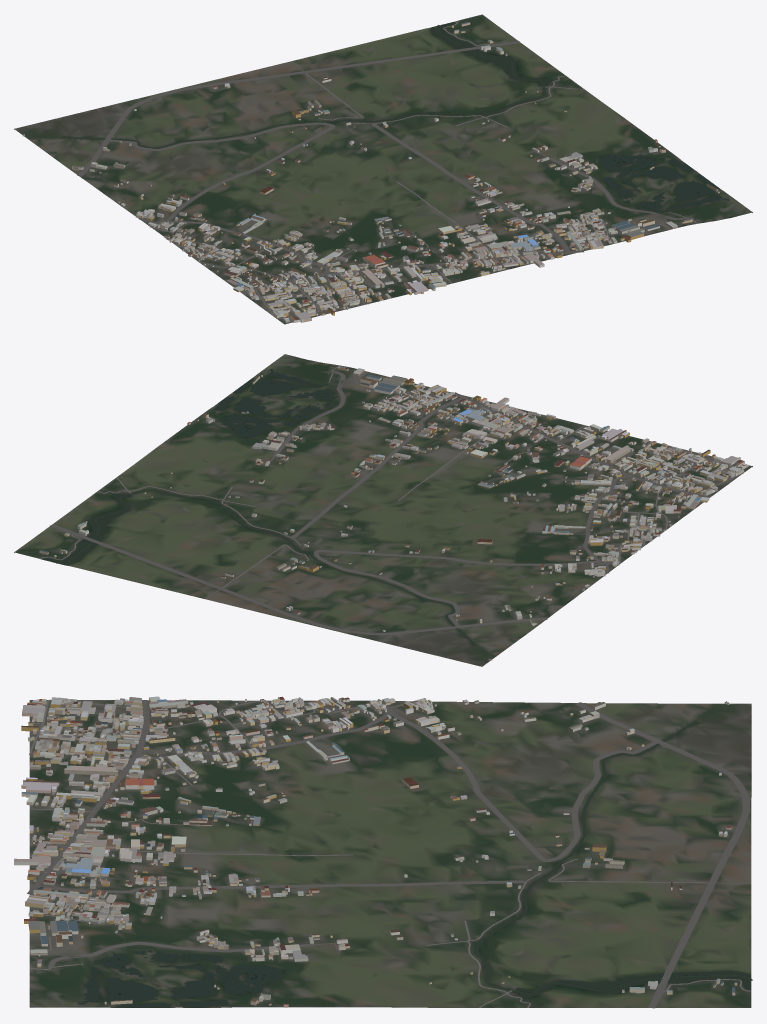
The picture shows the model from 3 angles, top to bottom: view 1: azimuth 30°, elevation 25°; view 2: azimuth 150°, elevation 25°; view 3: azimuth 270°, elevation 25°; orthographic projection. The views are drawn at different scales.
Parts seen in each view (by area): view 1: ground, buildings, roads, water; view 2: ground, buildings, roads, water; view 3: ground, buildings, roads, water.
Boxes of the visible parts, x1,y1,x2,y2 form: ground: [14, 14, 752, 324]; buildings: [22, 21, 719, 322]; roads: [77, 21, 697, 319]; water: [62, 21, 734, 217]; ground: [14, 354, 752, 666]; buildings: [39, 366, 748, 660]; roads: [39, 365, 745, 635]; water: [43, 358, 476, 644]; ground: [29, 700, 751, 1007]; buildings: [14, 696, 737, 1007]; roads: [27, 699, 751, 1008]; water: [30, 721, 752, 1007].
Bounding box in the file's own units: 1408 × 22.97 × 1434.
